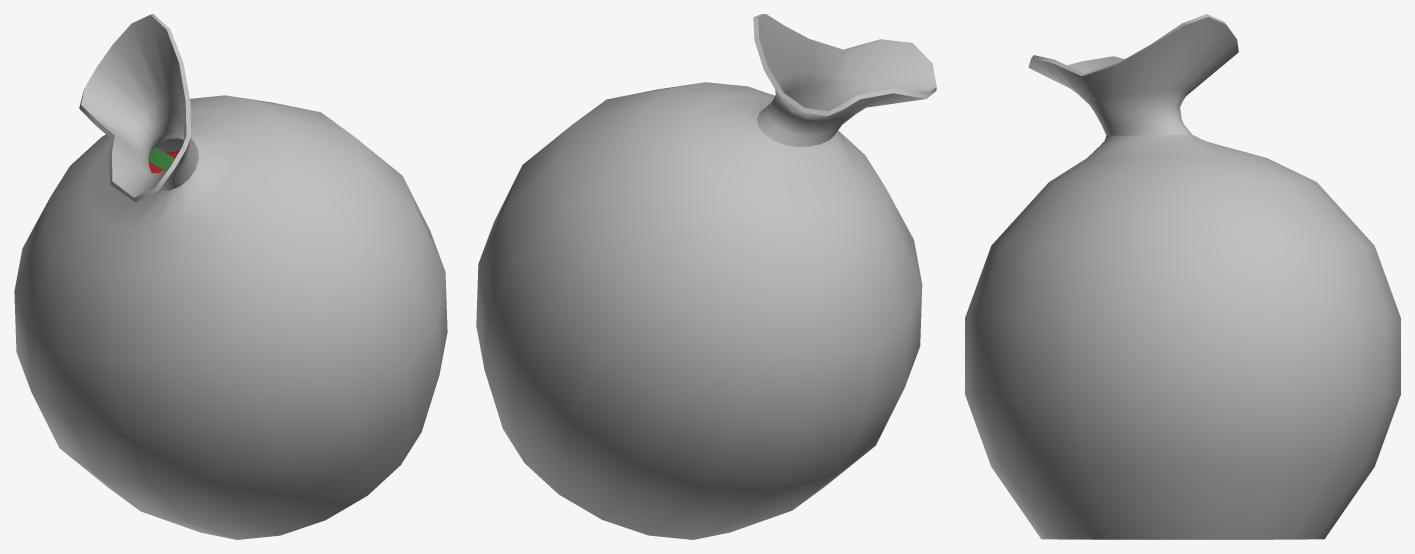
Rendered from Tomato_in_plastic.gltf.
3 renders of one model, left to right at view 1: azimuth 30°, elevation 25°; view 2: azimuth 150°, elevation 25°; view 3: azimuth 270°, elevation 25°, orthographic. The views are drawn at different scales.
Visible parts, largest first — view 1: Plastic bag, Tomato; view 2: Plastic bag; view 3: Plastic bag.
Part boxes in pixels (x1=…): Plastic bag: x1=14, y1=14, x2=447, y2=539; Tomato: x1=148, y1=147, x2=179, y2=173; Plastic bag: x1=476, y1=14, x2=936, y2=539; Plastic bag: x1=965, y1=14, x2=1400, y2=539.
Size of the model in its own units: 2.7 by 3.5 by 2.7.
Materials: 2 (1 with a texture image).
